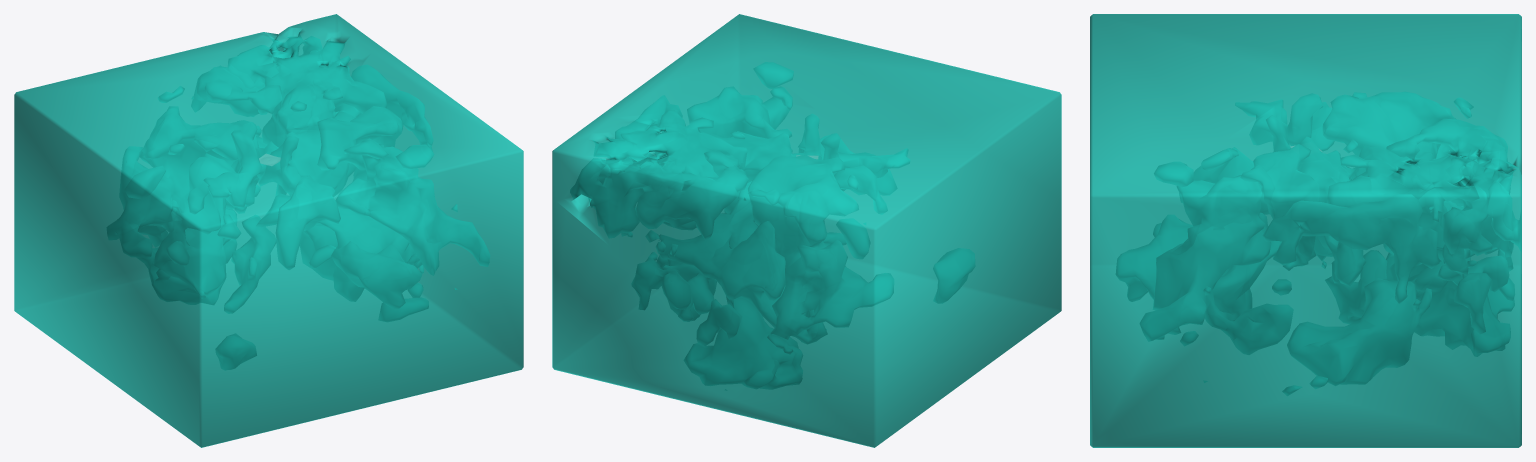
3 renders of one model, left to right at view 1: azimuth 30°, elevation 25°; view 2: azimuth 150°, elevation 25°; view 3: azimuth 270°, elevation 25°, orthographic. The views are drawn at different scales.
Parts seen in each view (by area): view 1: Liquid_Domain; view 2: Liquid_Domain; view 3: Liquid_Domain.
Part boxes in pixels (<box>): Liquid_Domain: <box>14,14,523,447</box>; Liquid_Domain: <box>552,14,1061,447</box>; Liquid_Domain: <box>1090,14,1521,447</box>.
Size of the model in its own units: 391 by 254 by 391.
